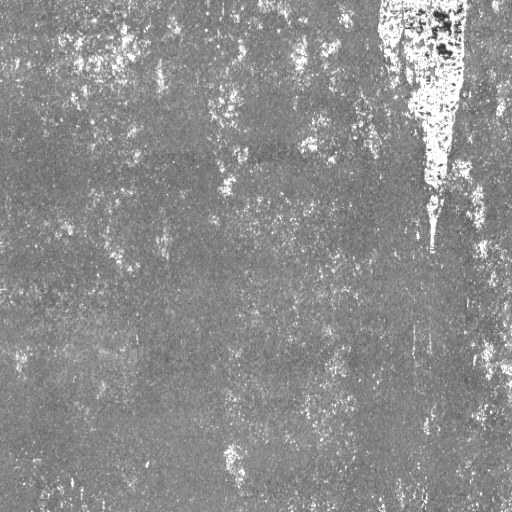qiaopi: (375, 1, 468, 258)
